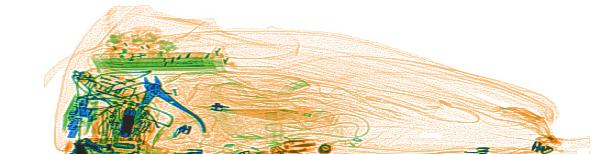battery: (120, 104, 136, 138)
plasticBottleWithaNozzle: (186, 81, 338, 126)
